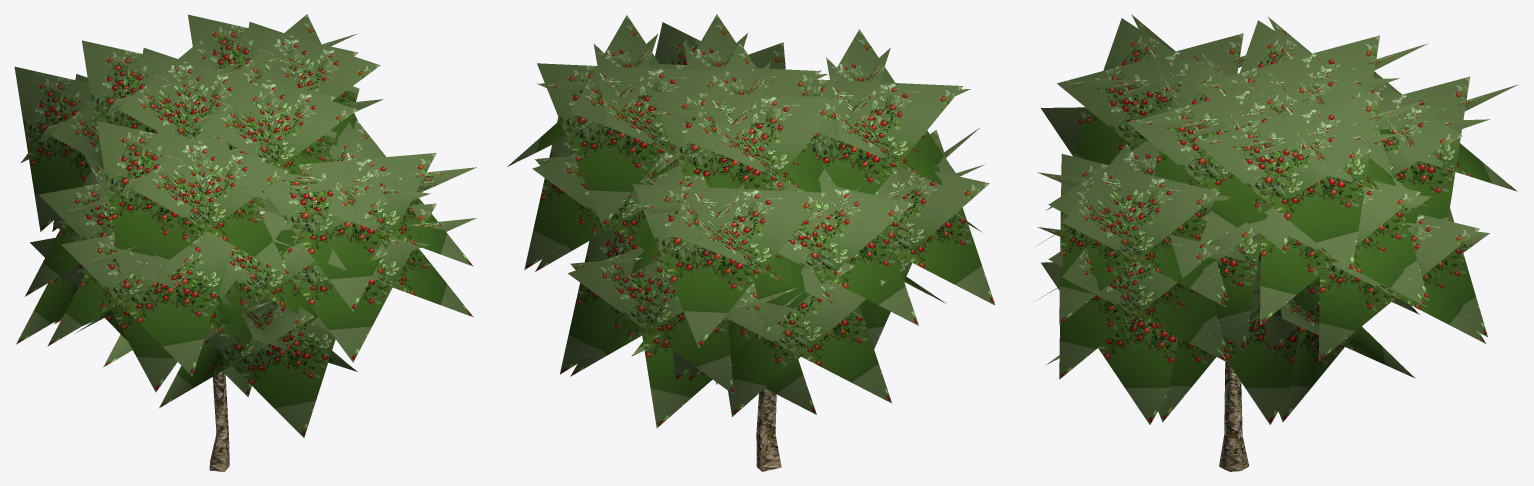
Rendered from apple-fruit-1.glb.
The picture shows the model from 3 angles, left to right: view 1: azimuth 30°, elevation 25°; view 2: azimuth 150°, elevation 25°; view 3: azimuth 270°, elevation 25°; orthographic projection. The views are drawn at different scales.
Visible parts, largest first — view 1: apple-fruit-1; view 2: apple-fruit-1; view 3: apple-fruit-1.
Boxes of the visible parts, x1=… form: apple-fruit-1: x1=14, y1=14, x2=476, y2=471; apple-fruit-1: x1=507, y1=14, x2=995, y2=471; apple-fruit-1: x1=1034, y1=14, x2=1518, y2=471.
Size of the model in its own units: 6.92 by 6.5 by 7.2.
Materials: 2 (2 with a texture image).
